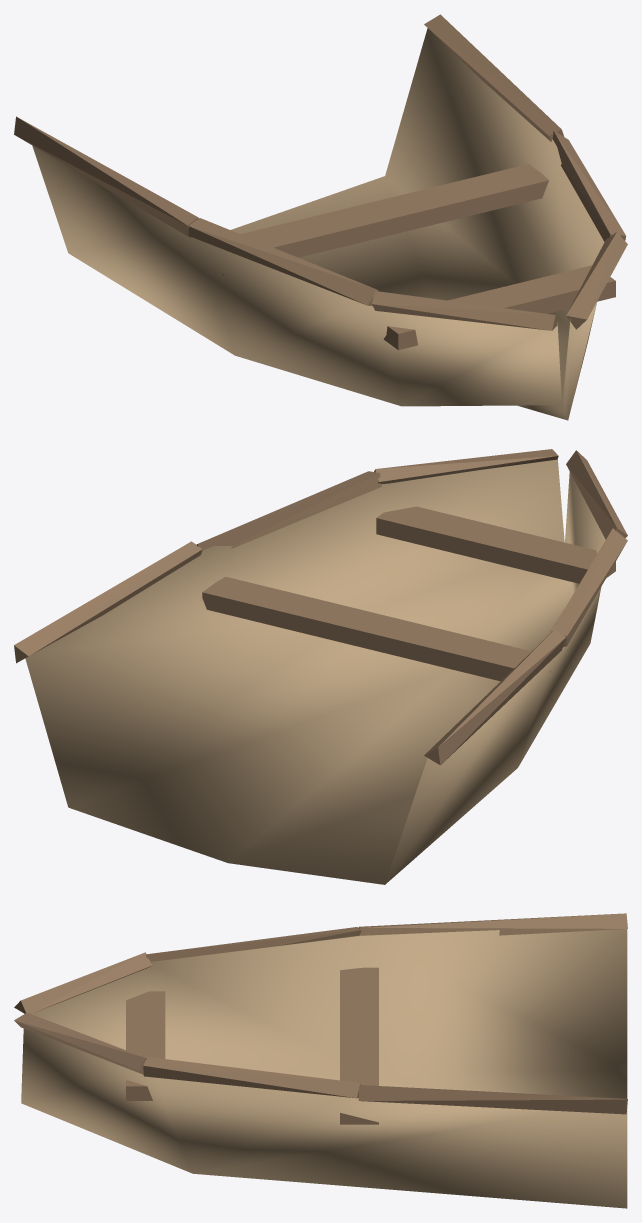
Rendered from boats.wreck_bow.lod1.glb.
3 views of the same model, one above another, from view 1: azimuth 30°, elevation 25°; view 2: azimuth 150°, elevation 25°; view 3: azimuth 270°, elevation 25° (orthographic). The views are drawn at different scales.
Parts seen in each view (by area): view 1: Hull, Seat.001, Seat, Gunwale.004, Gunwale.002, Gunwale, Gunwale.005, Gunwale.003, Gunwale.001; view 2: Hull, Seat.001, Seat, Gunwale.005, Gunwale.004, Gunwale.003, Gunwale.001, Gunwale.002, Gunwale; view 3: Hull, Seat.001, Gunwale.005, Gunwale.003, Gunwale.004, Seat, Gunwale, Gunwale.001, Gunwale.002.
Part boxes in pixels (x1,y1,x2,y2): Hull: [32, 28, 604, 420]; Seat.001: [223, 164, 548, 275]; Seat: [383, 265, 615, 350]; Gunwale.004: [14, 116, 198, 238]; Gunwale.002: [188, 218, 378, 306]; Gunwale: [372, 291, 558, 330]; Gunwale.005: [424, 14, 564, 141]; Gunwale.003: [552, 131, 625, 241]; Gunwale.001: [566, 232, 627, 329]; Hull: [25, 459, 605, 884]; Seat.001: [202, 576, 550, 681]; Seat: [376, 506, 615, 583]; Gunwale.005: [14, 541, 202, 663]; Gunwale.004: [424, 630, 566, 765]; Gunwale.003: [196, 471, 381, 550]; Gunwale.001: [374, 449, 558, 484]; Gunwale.002: [551, 528, 627, 646]; Gunwale: [566, 450, 627, 539]; Hull: [21, 929, 627, 1208]; Seat.001: [340, 967, 378, 1124]; Gunwale.005: [358, 1085, 627, 1114]; Gunwale.003: [143, 1057, 360, 1098]; Gunwale.004: [358, 913, 627, 935]; Seat: [126, 991, 165, 1100]; Gunwale: [14, 952, 152, 1013]; Gunwale.001: [14, 1012, 147, 1074]; Gunwale.002: [146, 927, 361, 961].
Bounding box in the file's own units: 2.47 × 0.9247 × 3.44.
